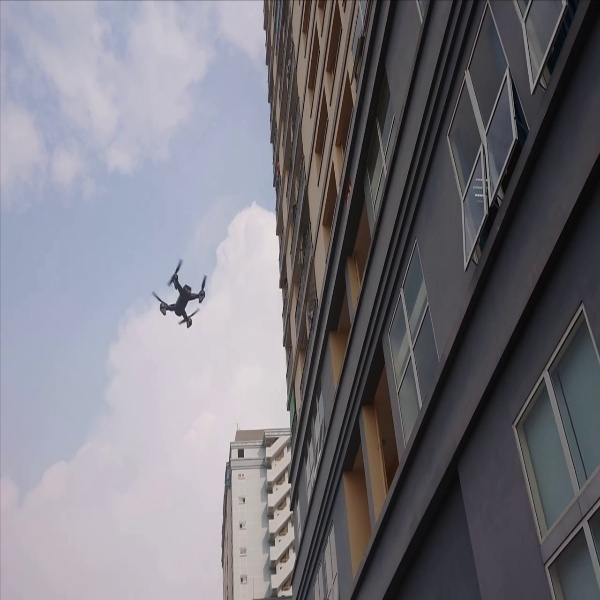drone: (152, 256, 216, 334)
